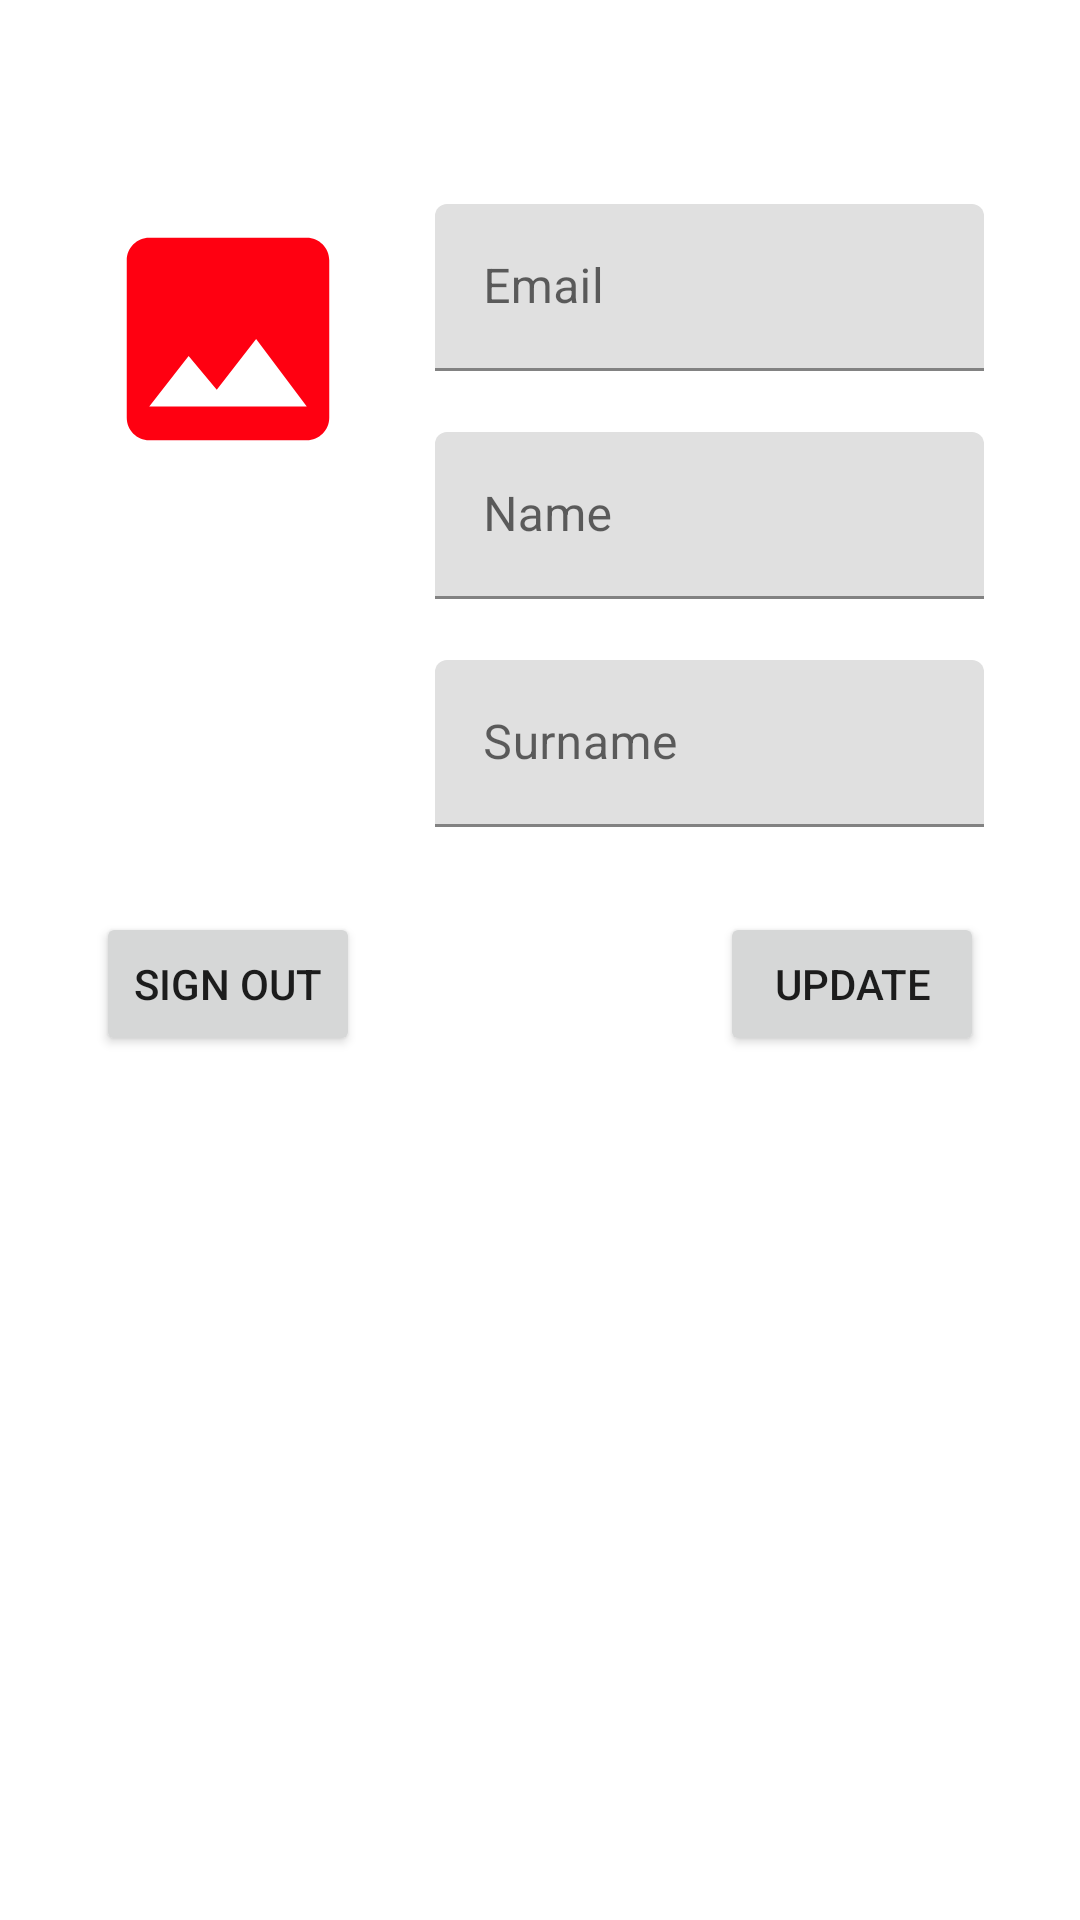

Icons on this 1080px×1920px Android screen, each with the point to tap as [x,y]:
insert photo: [228,339]
